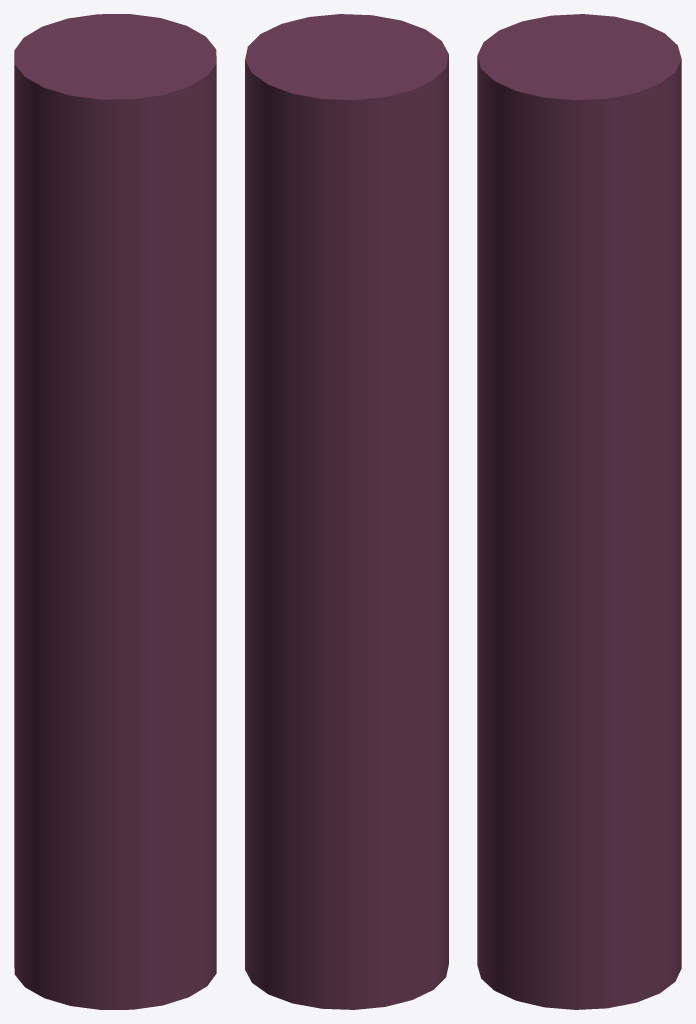
3 renders of one model, left to right at view 1: azimuth 30°, elevation 25°; view 2: azimuth 150°, elevation 25°; view 3: azimuth 270°, elevation 25°, orthographic.
Visible parts, largest first — view 1: pCylinder3; view 2: pCylinder3; view 3: pCylinder3.
Part boxes in pixels (bbox=[...]): pCylinder3: bbox=[14, 14, 216, 1009]; pCylinder3: bbox=[245, 14, 448, 1009]; pCylinder3: bbox=[477, 14, 681, 1009].
Bounding box in the file's own units: 23.77 × 117 × 23.77.
